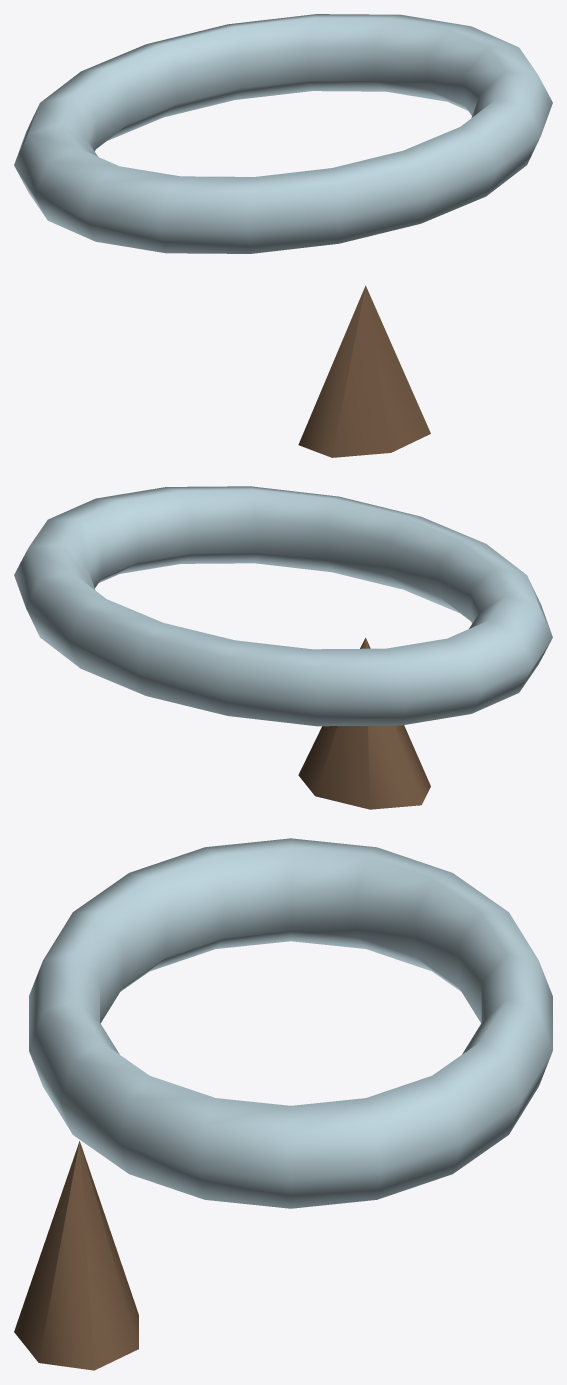
File: wearable.glb
3 renders of one model, top to bottom at view 1: azimuth 30°, elevation 25°; view 2: azimuth 150°, elevation 25°; view 3: azimuth 270°, elevation 25°, orthographic. The views are drawn at different scales.
Parts seen in each view (by area): view 1: wearable_band, wearable_charm; view 2: wearable_band, wearable_charm; view 3: wearable_band, wearable_charm.
Part boxes in pixels (left/top/right/bottom): wearable_band: left=14, top=14, right=552, bottom=253; wearable_charm: left=298, top=285, right=430, bottom=457; wearable_band: left=14, top=486, right=552, bottom=726; wearable_charm: left=298, top=637, right=430, bottom=809; wearable_band: left=29, top=838, right=552, bottom=1208; wearable_charm: left=14, top=1141, right=138, bottom=1370.
Bounding box in the file's own units: 0.63 × 0.3339 × 0.4594.
